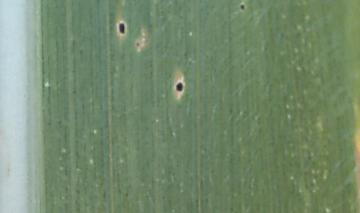tarspot: (172, 79, 186, 96), (115, 19, 128, 36), (238, 2, 247, 13)
